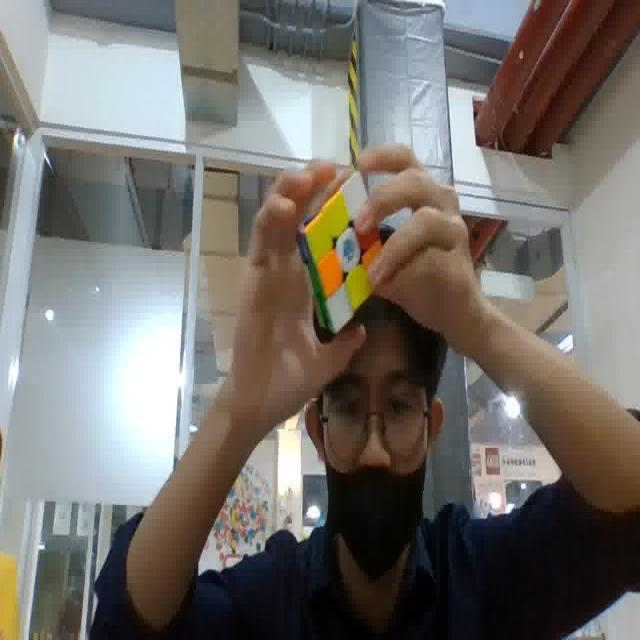Rub: (292, 165, 388, 330)
